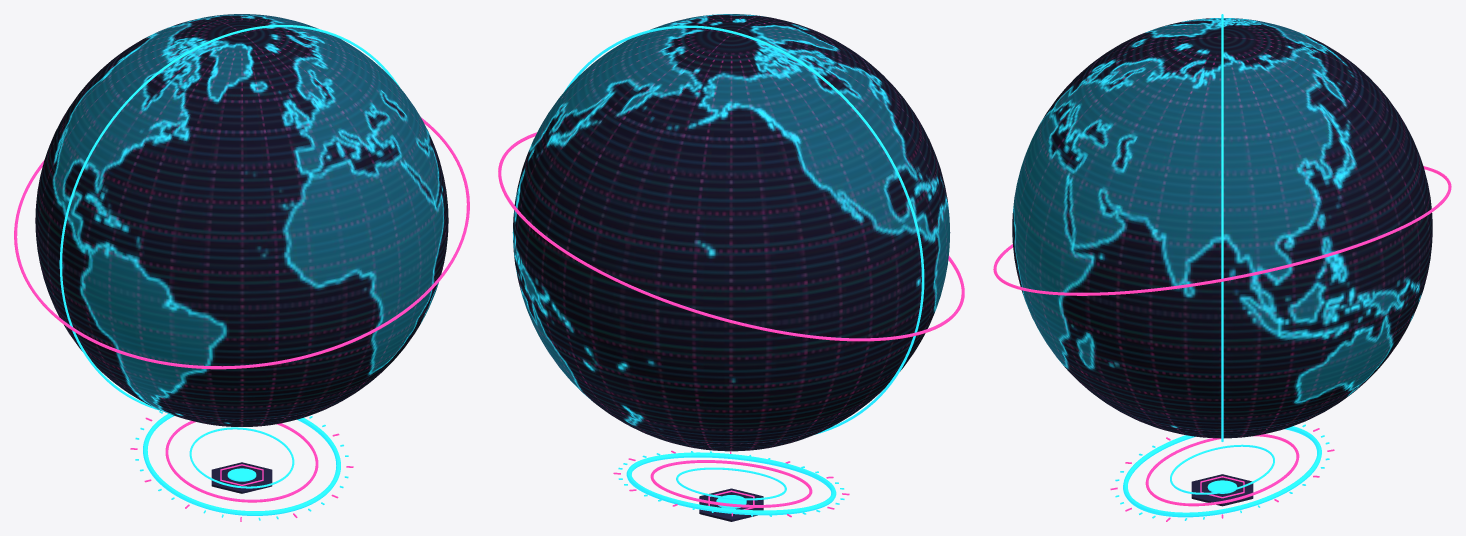
The model's file is 2026-11-27_city-globe-cyberpunk.glb.
The picture shows the model from 3 angles, left to right: view 1: azimuth 30°, elevation 25°; view 2: azimuth 150°, elevation 25°; view 3: azimuth 270°, elevation 25°; orthographic projection. The views are drawn at different scales.
Visible parts, largest first — view 1: Globe, Stand; view 2: Globe, Stand; view 3: Globe, Stand.
Boxes of the visible parts, x1,y1,x2,y2 form: Globe: (35,14,448,426); Stand: (14,25,469,521); Globe: (512,14,950,451); Stand: (498,25,964,521); Globe: (1012,18,1432,438); Stand: (993,14,1451,521).
Bounding box in the file's own units: 2.17 × 2.41 × 2.18.
4 materials, 1 textured.
